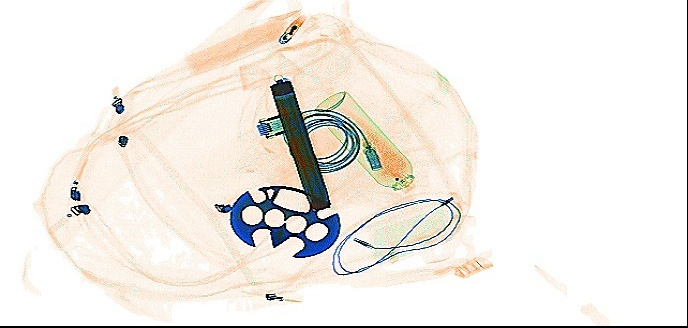lighter: (276, 13, 308, 43)
pressure: (313, 89, 417, 195)
